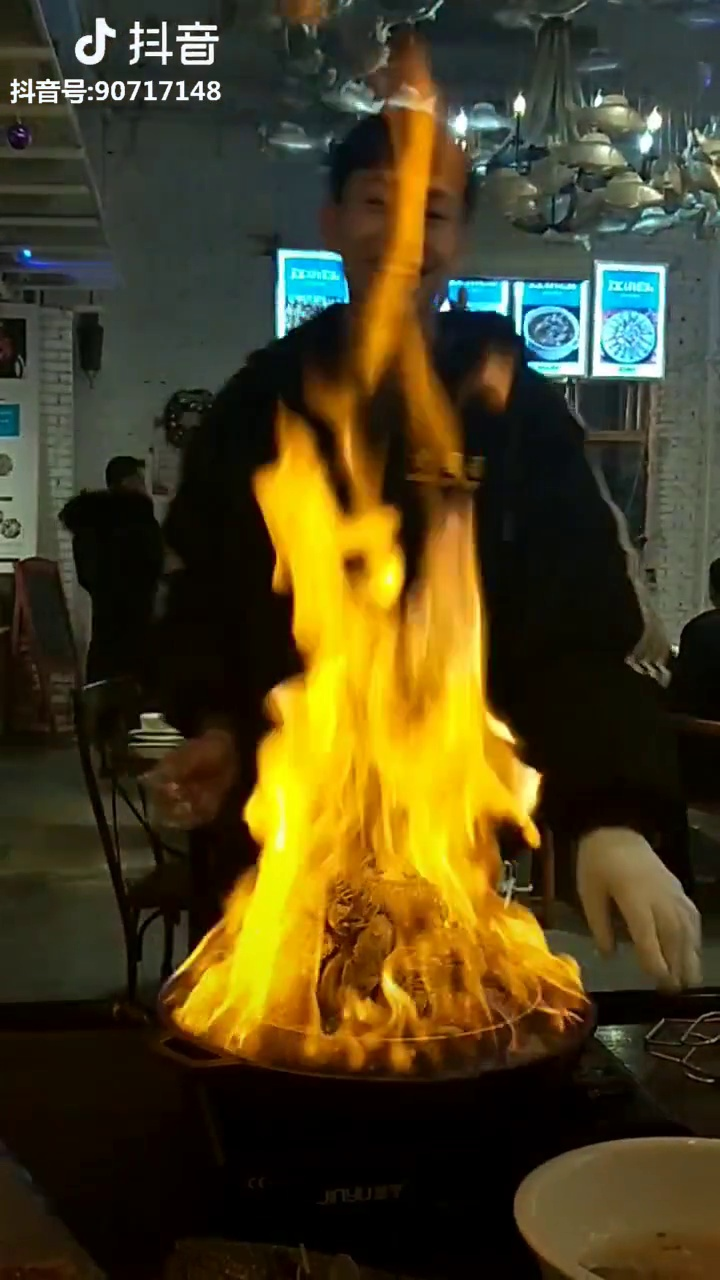fire: (239, 371, 549, 1024)
